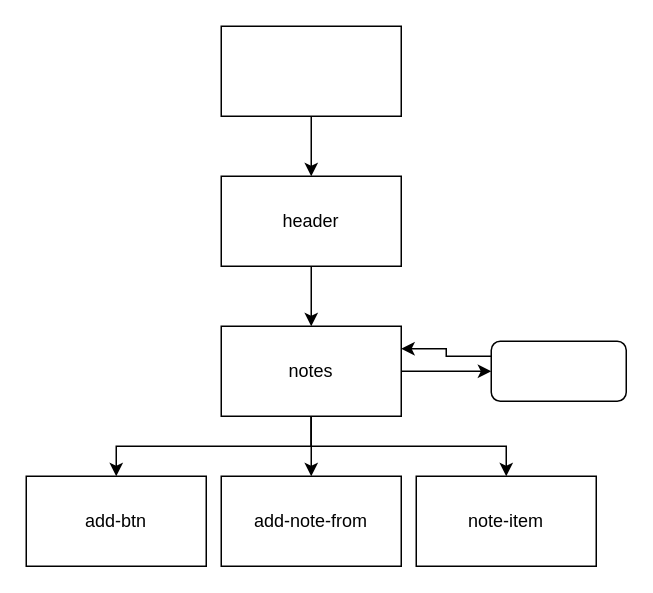
Image size: 653x593. Some labels were removed from this diagram. The shapes that lost their labels are listed below. From the top down, each one's centre as x and y in pixels, then its label:
point 310,70: app
point 558,370: service
